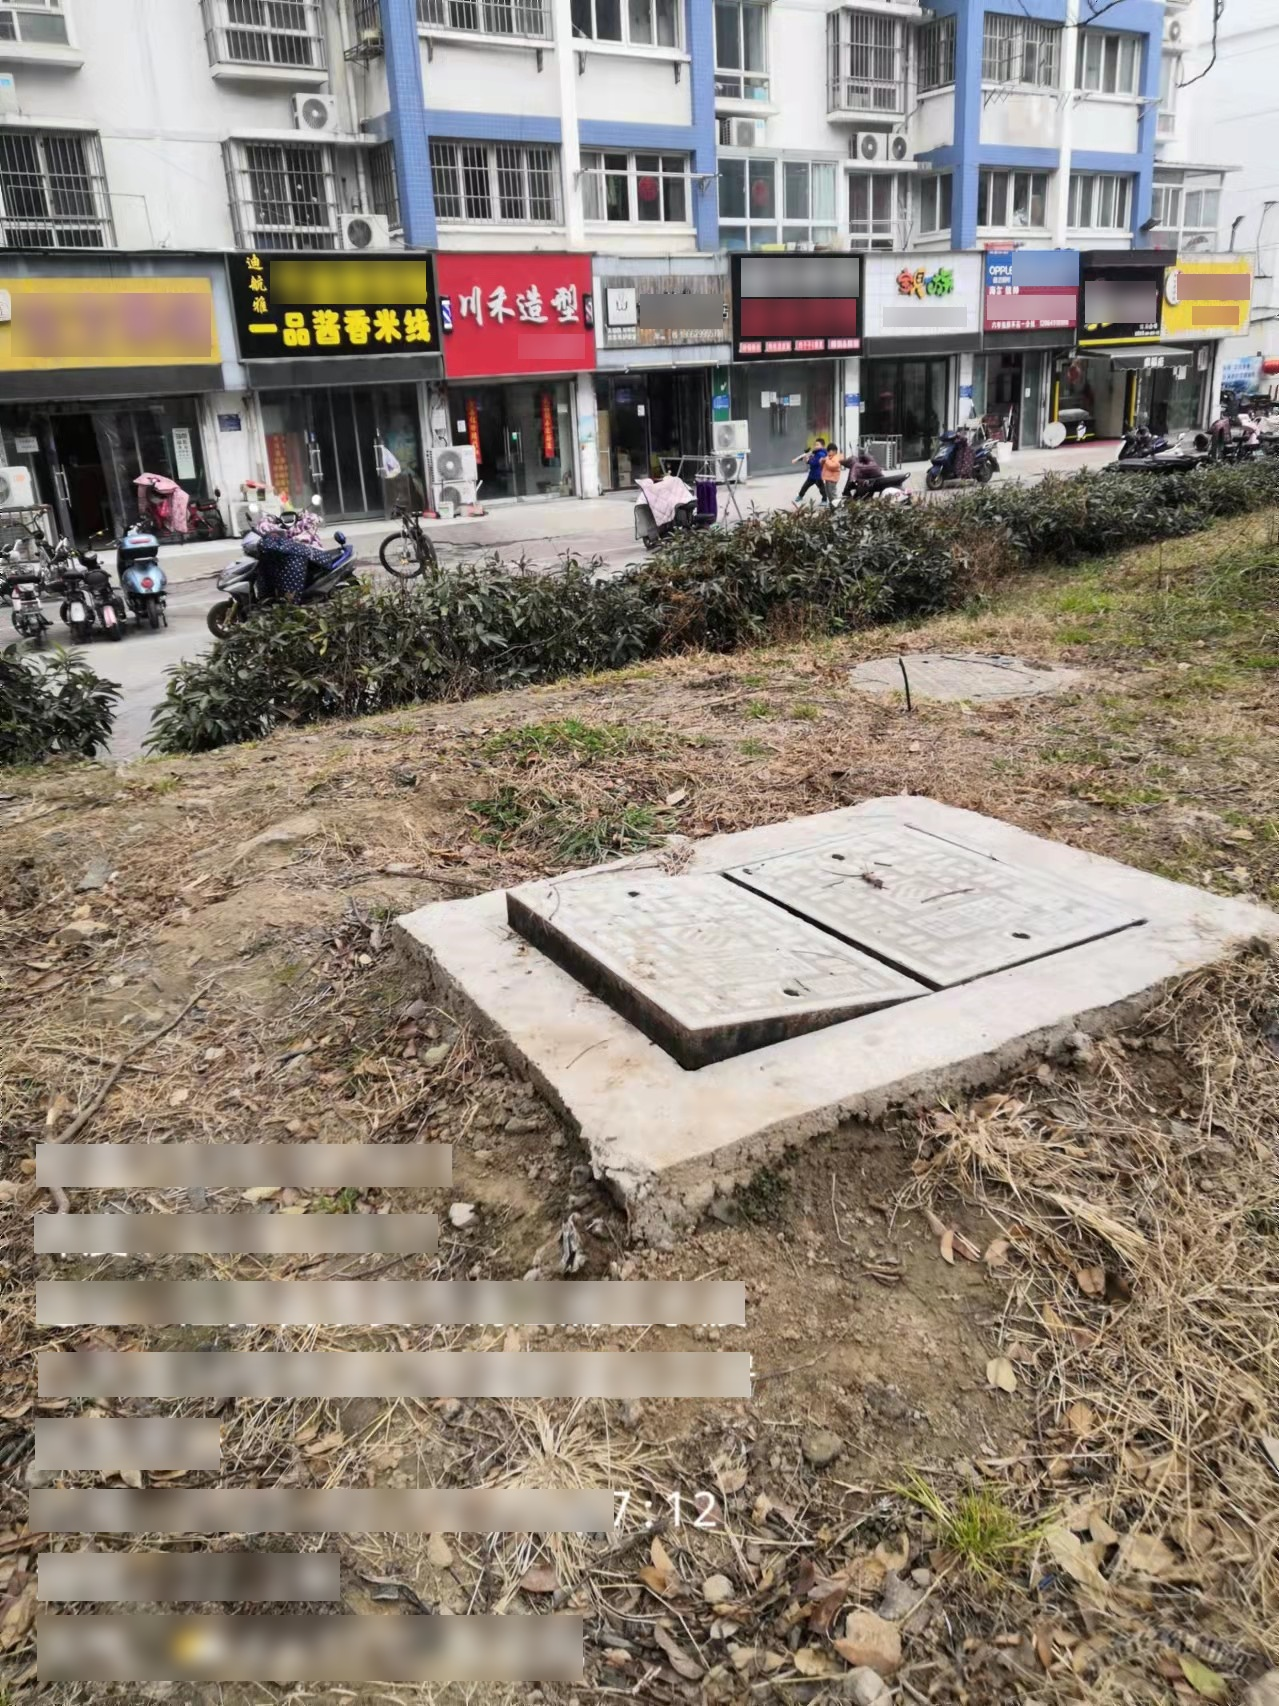uncovered: (511, 807, 1151, 1075)
